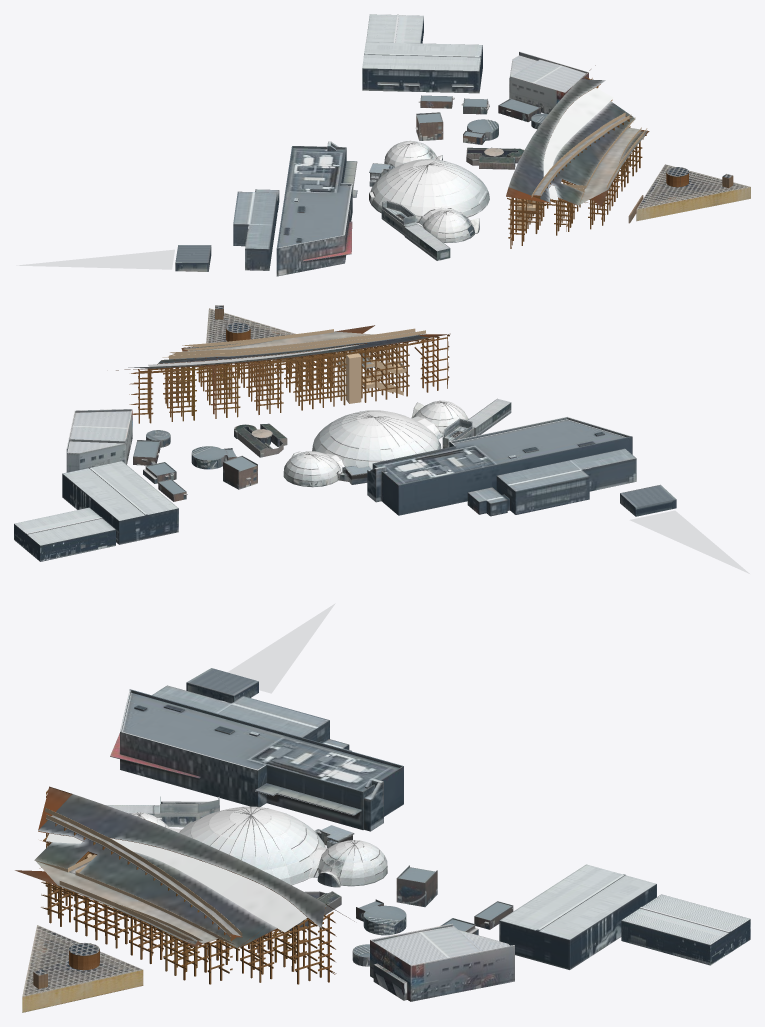
3 views of the same model, one above another, from view 1: azimuth 30°, elevation 25°; view 2: azimuth 150°, elevation 25°; view 3: azimuth 270°, elevation 25° (orthographic). The views are drawn at different scales.
Visible parts, largest first — view 1: Buildings_建物パビリオン, GrandRoofRing_大屋根リング; view 2: Buildings_建物パビリオン, GrandRoofRing_大屋根リング; view 3: Buildings_建物パビリオン, GrandRoofRing_大屋根リング.
Part boxes in pixels (left/top/right/bottom): Buildings_建物パビリオン: left=16, top=14, right=750, bottom=276; GrandRoofRing_大屋根リング: left=506, top=65, right=649, bottom=248; Buildings_建物パビリオン: left=14, top=305, right=749, bottom=573; GrandRoofRing_大屋根リング: left=116, top=325, right=450, bottom=423; Buildings_建物パビリオン: left=22, top=603, right=750, bottom=1012; GrandRoofRing_大屋根リング: left=15, top=786, right=354, bottom=984.
Size of the model in its own units: 251 by 20.88 by 191.
Materials: 21 (19 with a texture image).
